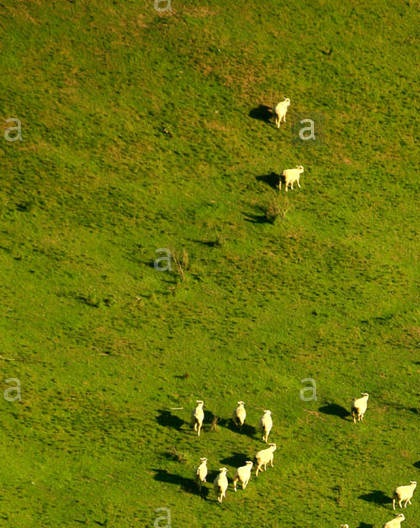sheep: (221, 456, 263, 495), (183, 396, 210, 443), (182, 455, 220, 488), (352, 393, 382, 430), (380, 482, 420, 507), (265, 95, 295, 128), (249, 440, 283, 468), (279, 160, 308, 192), (234, 399, 258, 435), (207, 465, 232, 498), (262, 411, 281, 440), (384, 513, 409, 528)
